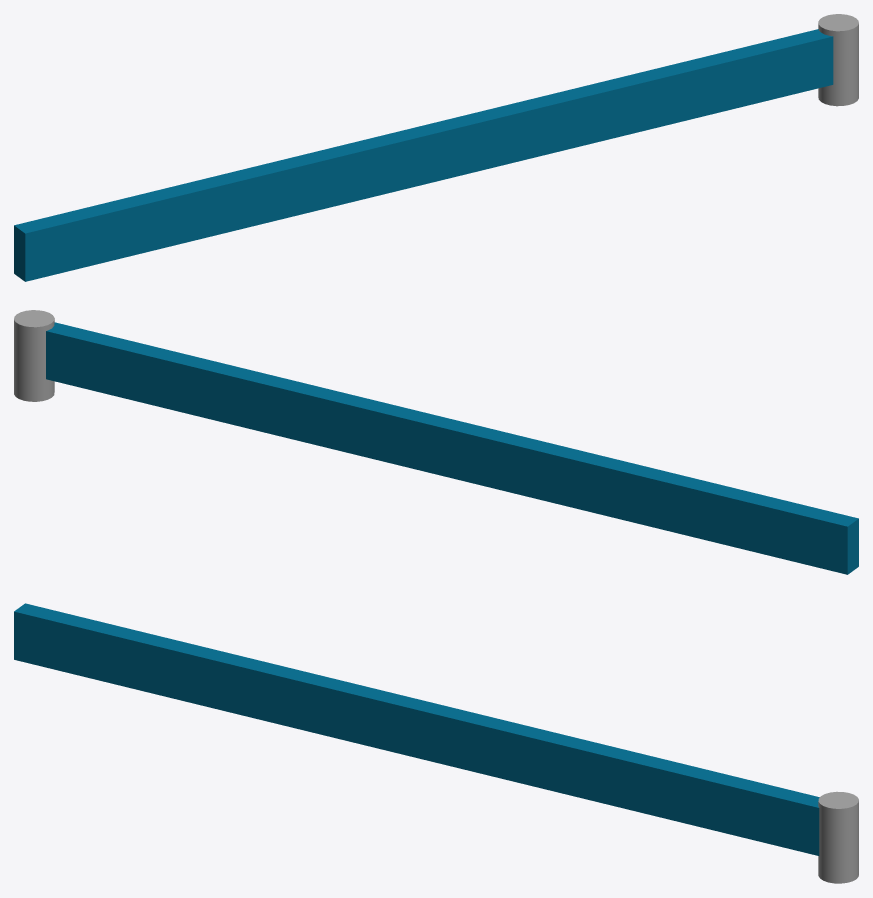
The model's file is Sprinkler1.fbx.
The picture shows the model from 3 angles, top to bottom: view 1: azimuth 30°, elevation 25°; view 2: azimuth 150°, elevation 25°; view 3: azimuth 330°, elevation 25°; orthographic projection.
Parts seen in each view (by area): view 1: pCube106; view 2: pCube106; view 3: pCube106.
Boxes of the visible parts, x1=… form: pCube106: x1=14, y1=14, x2=858, y2=281; pCube106: x1=14, y1=310, x2=858, y2=574; pCube106: x1=14, y1=603, x2=858, y2=883.
Size of the model in its own units: 18.14 by 1.55 by 0.7667.
